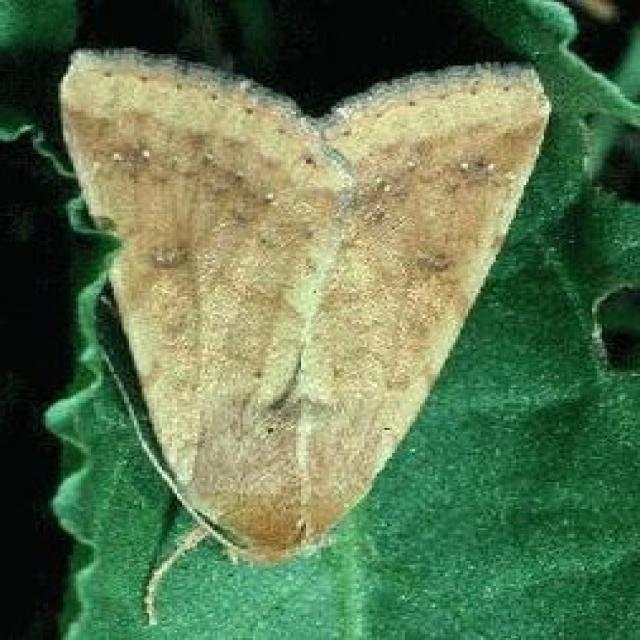army worm: (47, 47, 568, 583)
